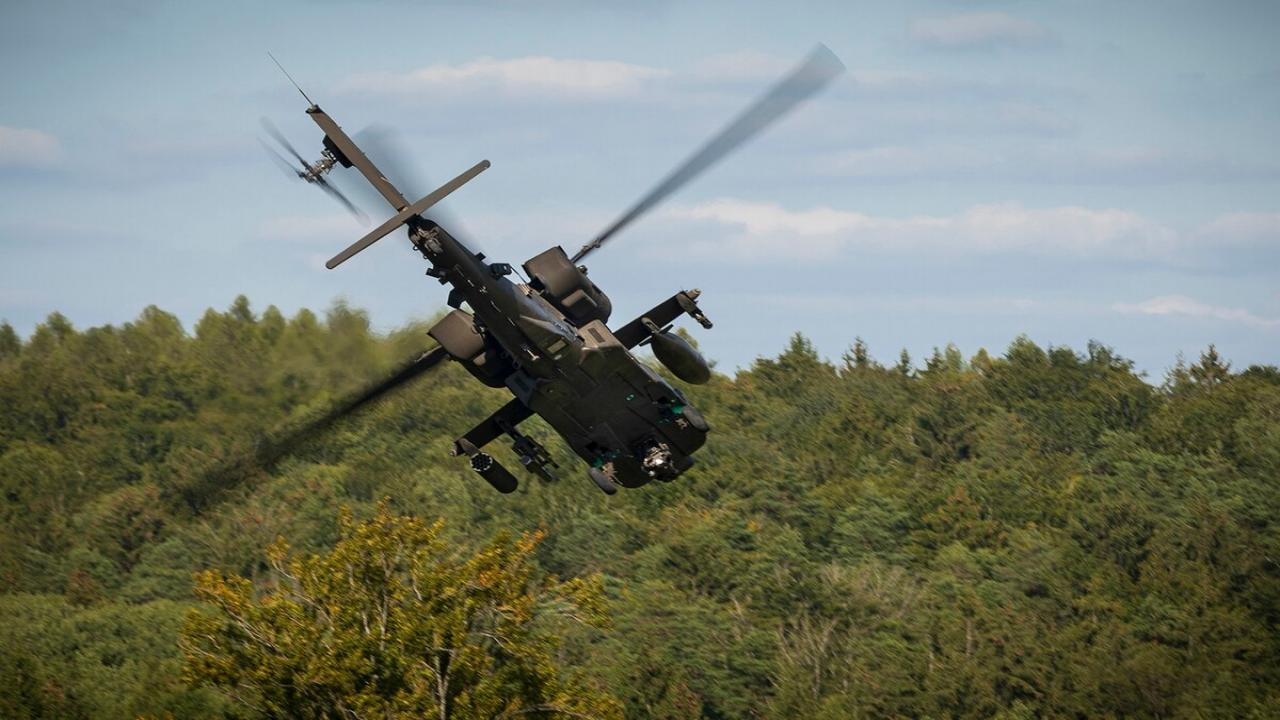Helicopter: (112, 32, 989, 542)
